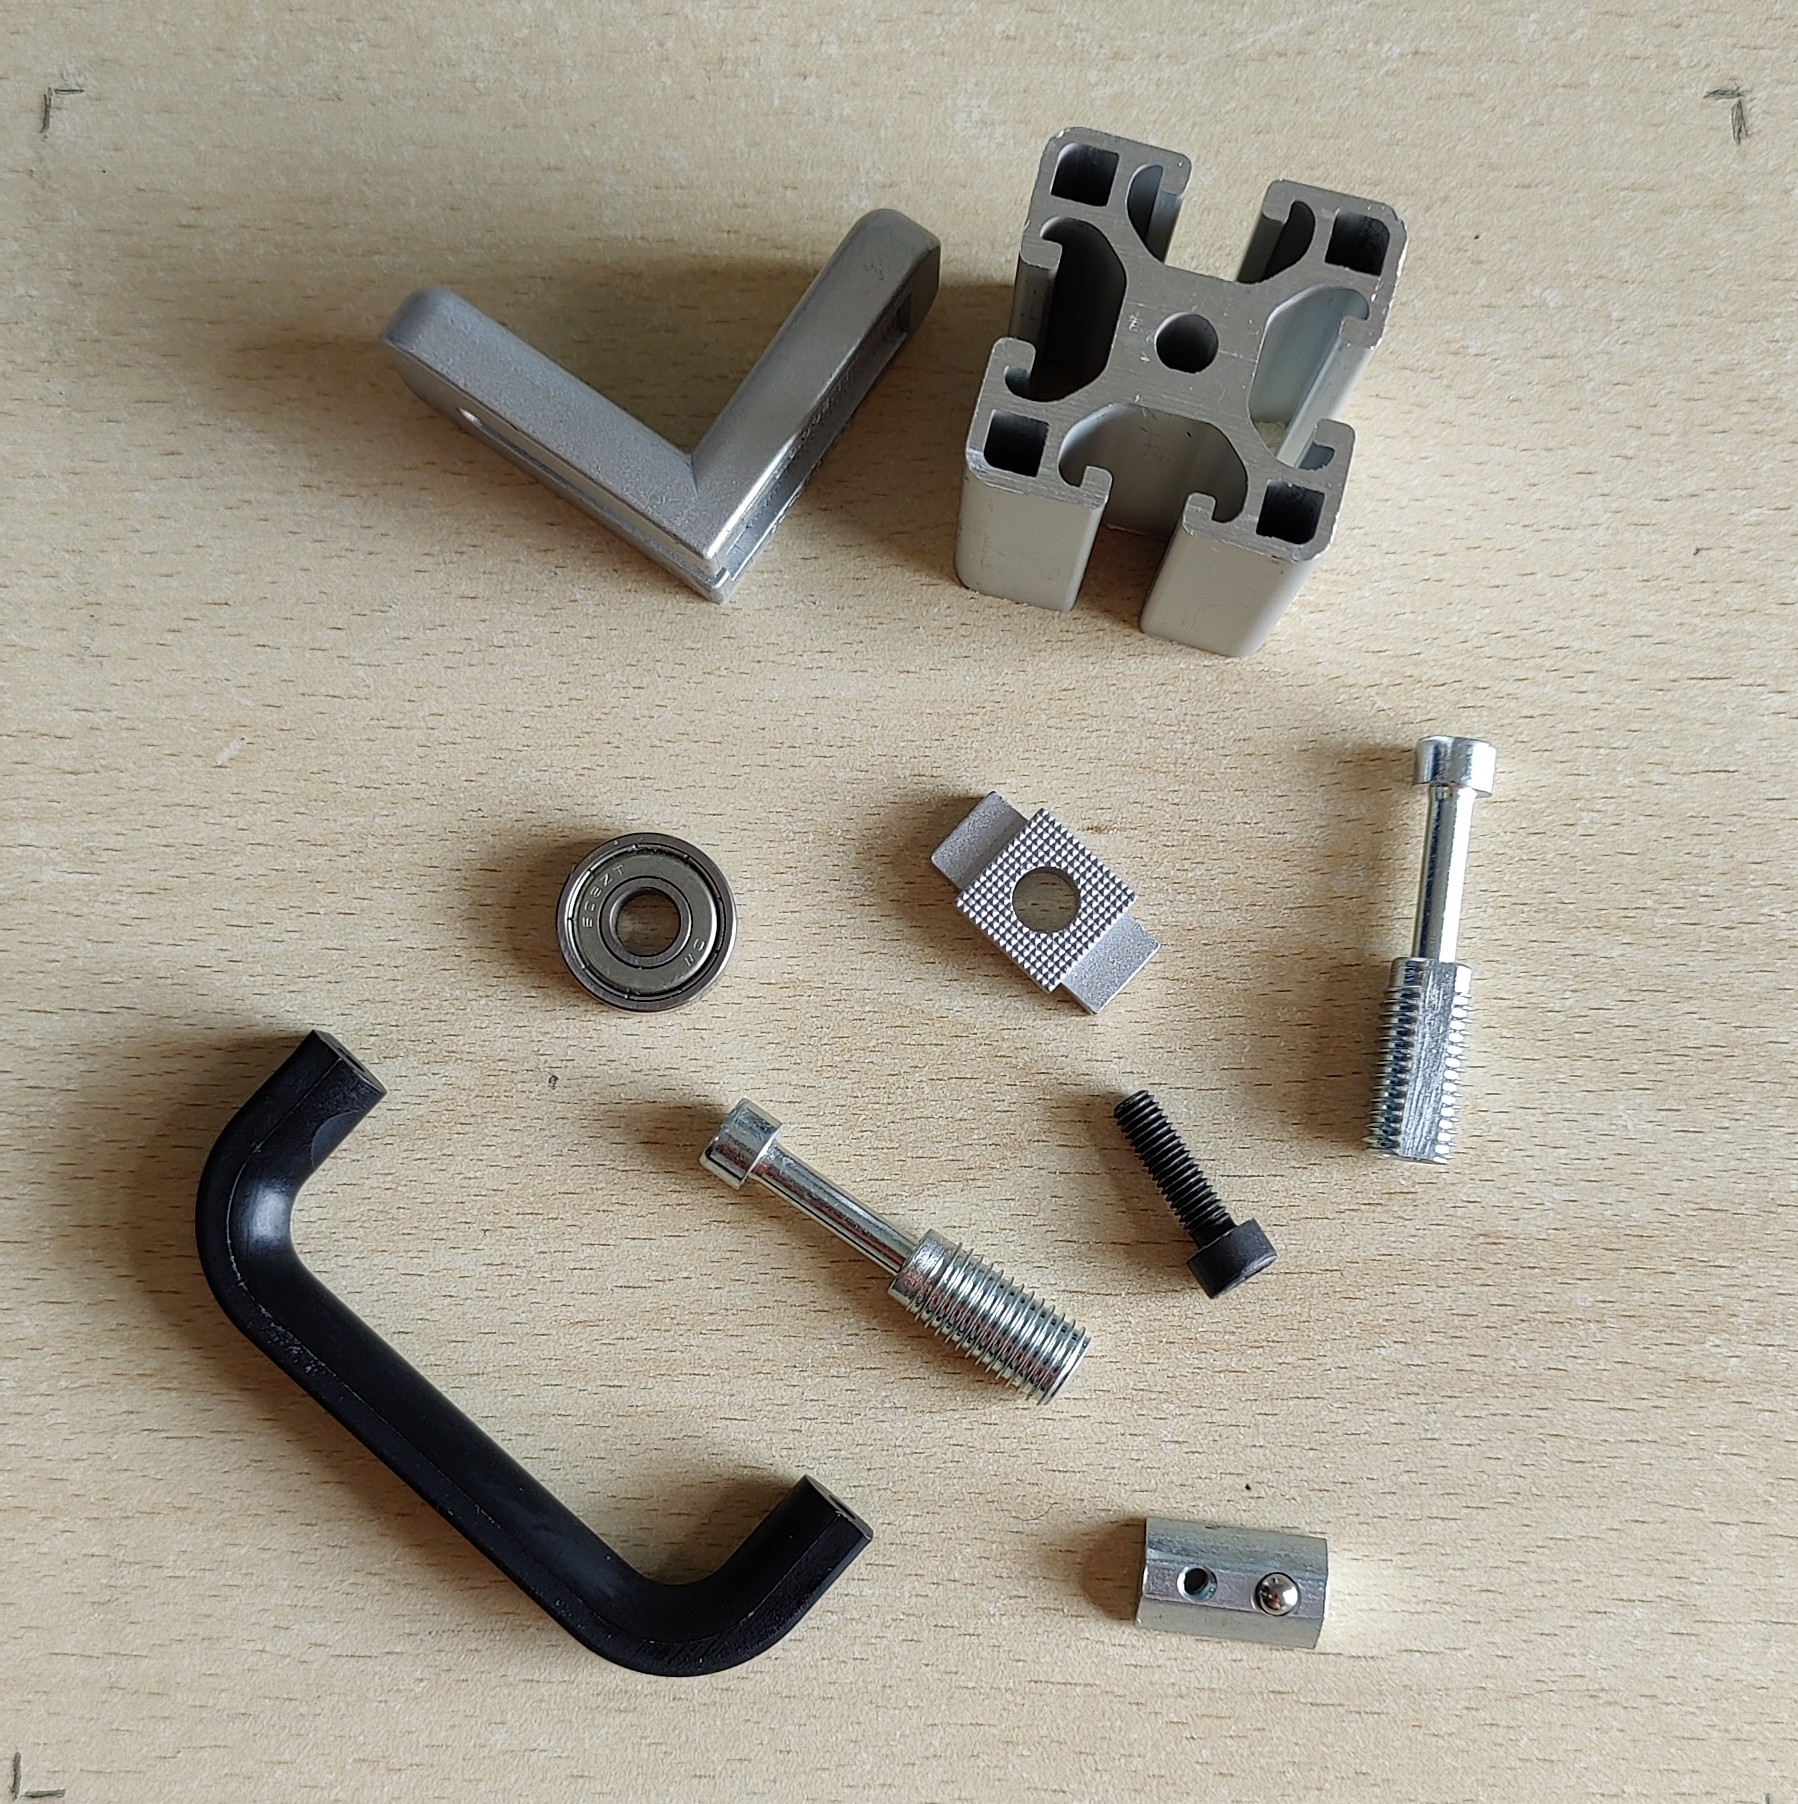Aluminium Extension: (953, 125, 1406, 657)
Ball Bearing: (553, 831, 739, 1012)
Multiwinkel: (380, 207, 943, 607)
Pull Handle: (193, 1027, 878, 1679)
Shoulder Socket Head Cap Screw: (692, 1096, 1093, 1406), (1358, 732, 1498, 1170)
Socket Head Cap Screw: (1111, 1086, 1279, 1300)
T Nut Square: (924, 788, 1162, 1016)
T Spring Nut: (1133, 1513, 1329, 1653)
